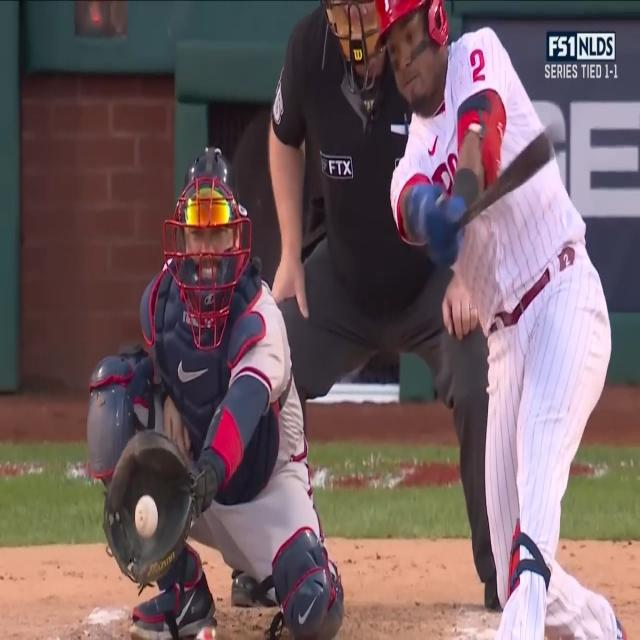baseball: (134, 492, 159, 540)
